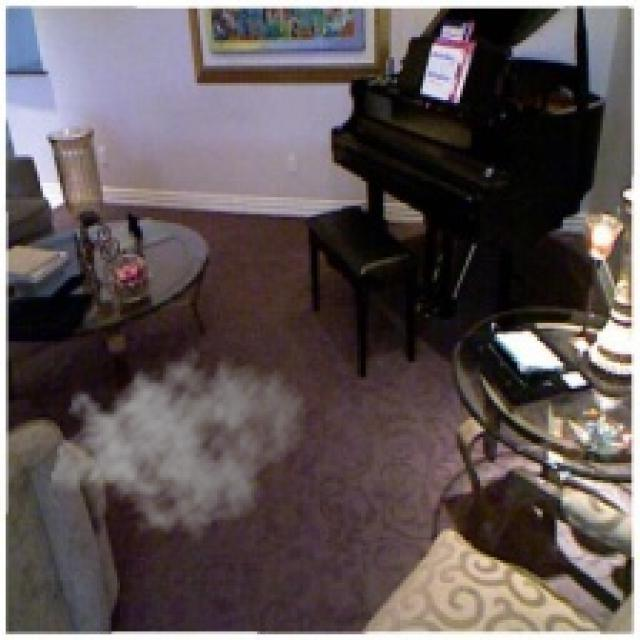Smoke: (49, 337, 308, 543)
